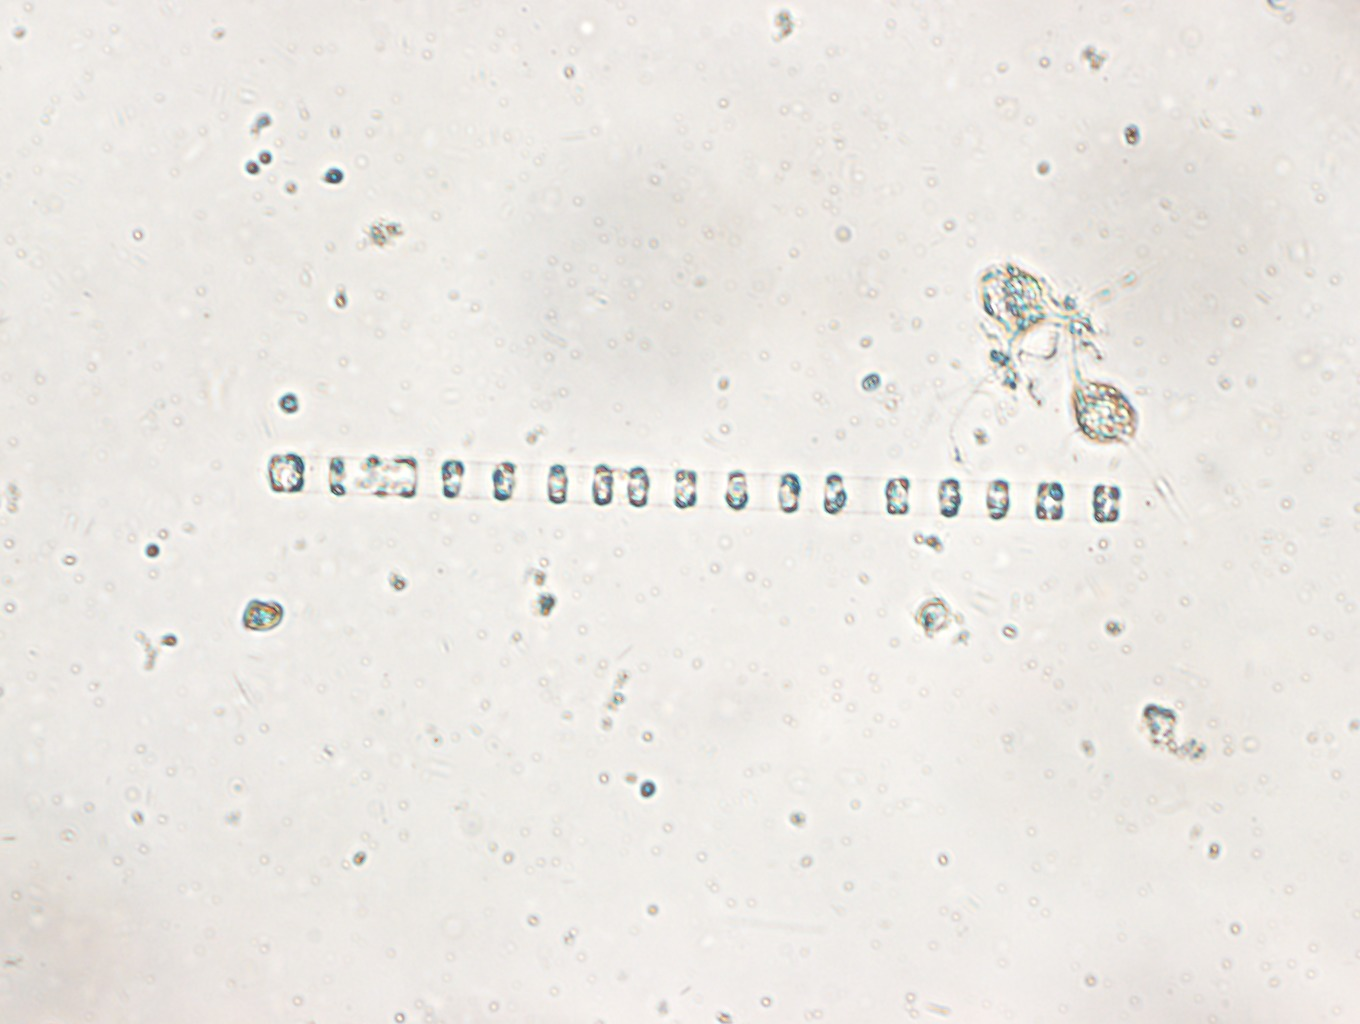skeletonema: (264, 450, 1123, 528)
